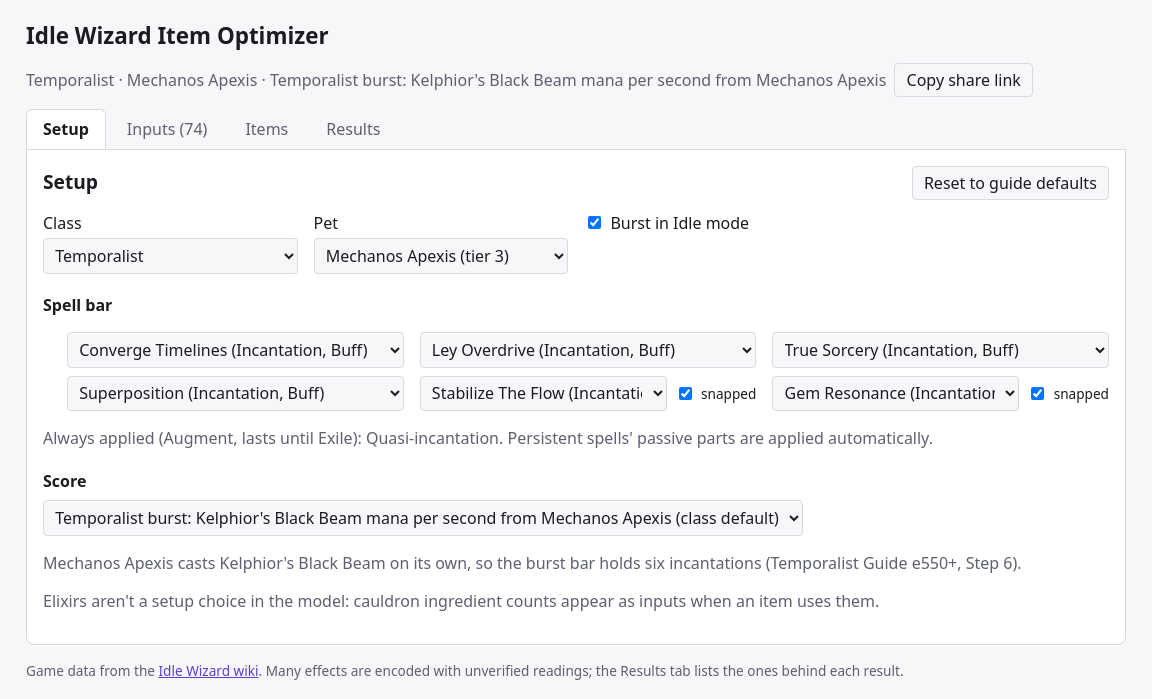
Test case: App › restores a shared state from the URL
Click the tab "Items" at (267, 129), box [228,109,305,149]
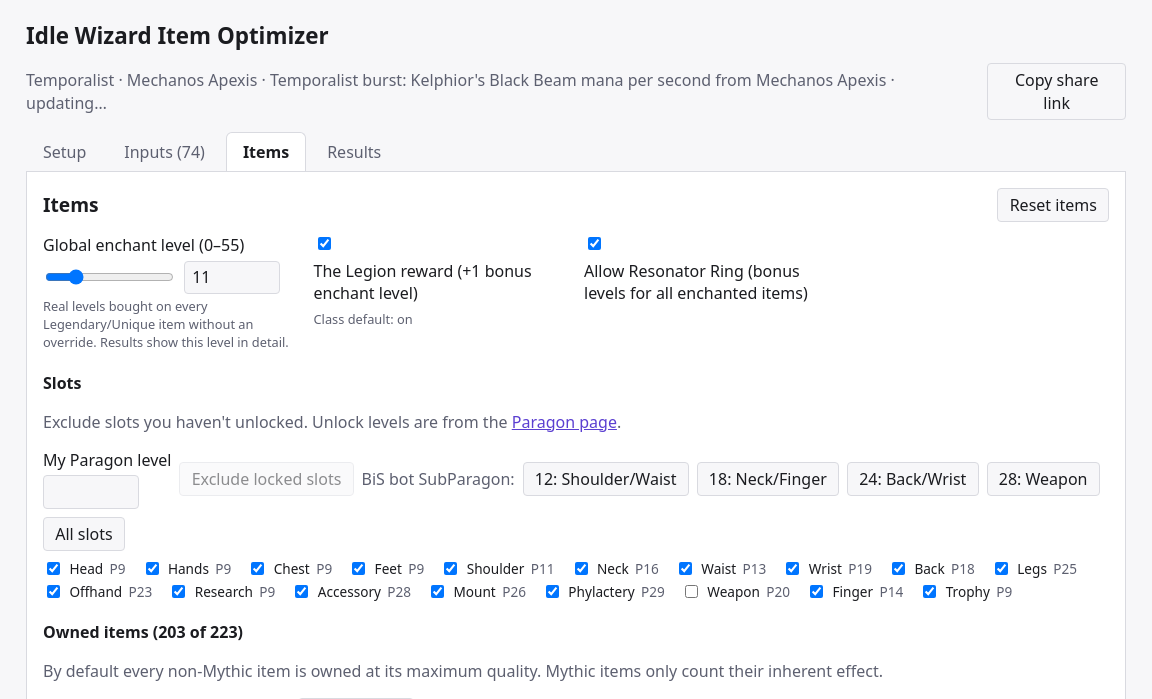
Now the number field named "Global enchant level" holds "11", box [184,260,280,294]
Now the checkbox labelled "Weapon P20" is not checked, box [685,585,698,598]
